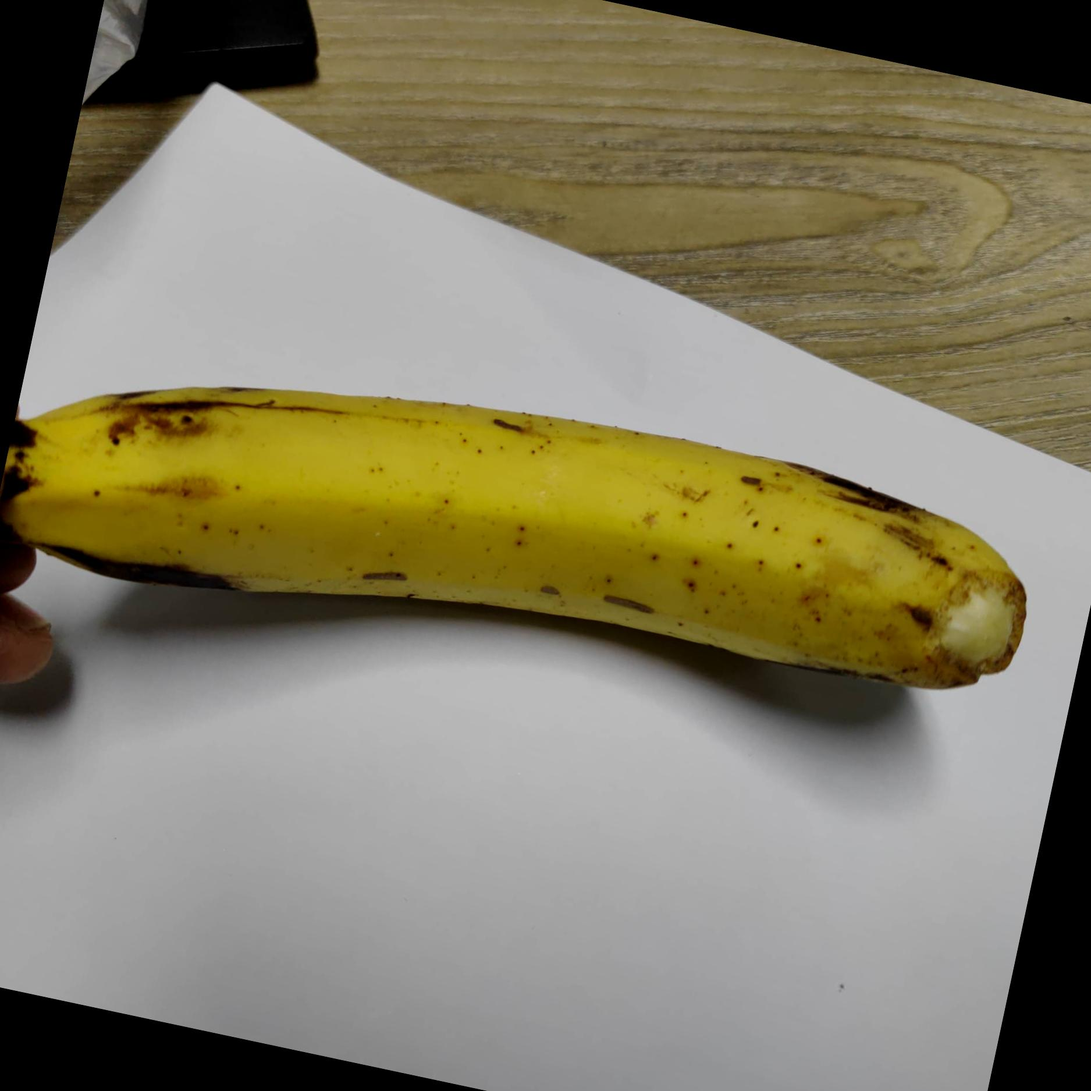Banana Ripe: (0, 273, 1076, 861)
